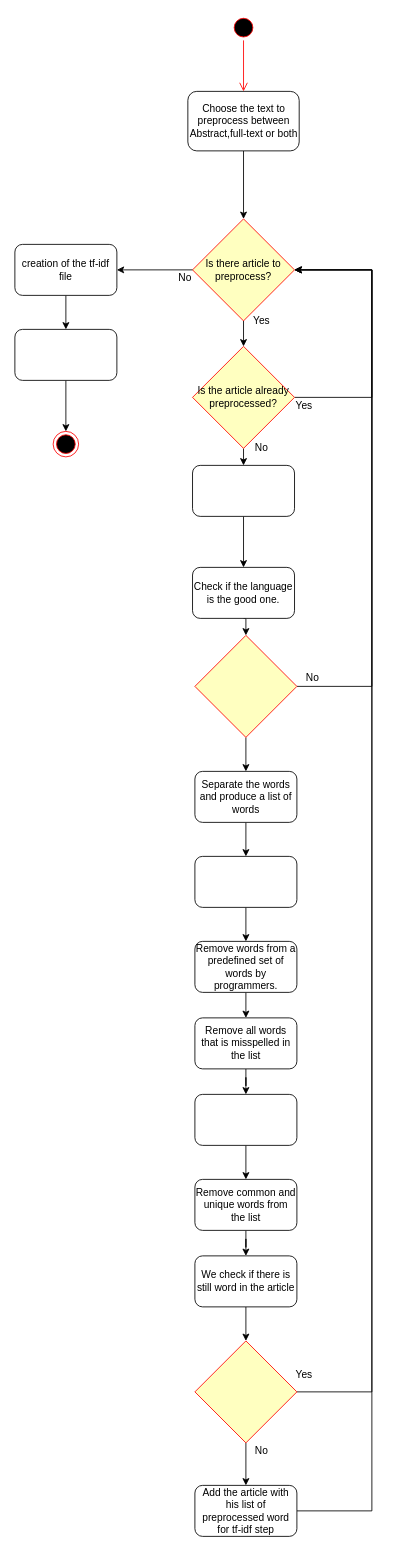
The diagram is 394 pixels wide and 1551 high, and some of its shapes have lost their labels. Here are the shapes that lost their labels. From the top down, the centre of each, then its label:
(65,354): save the tf-idf file + list of article's id in the tf-idf
(243,490): Delete all obvoius non pertinent word. (email, \n,etc...)
(245,686): Article write in the good language?
(245,881): Lemmatization. Keep only word that are noun, adjectif, verb,adverbe
(245,1119): Creation of trigrams
(245,1391): Is the article empty?
